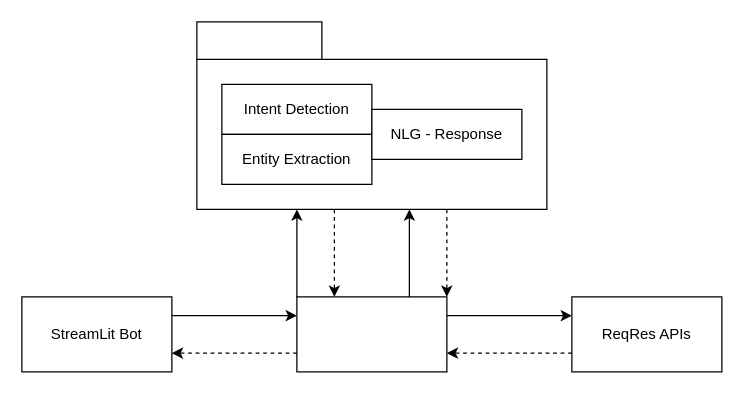
The diagram is 744 pixels wide and 394 high, and some of its shapes have lost their labels. The shapes that lost their labels are listed below. From the top down, each one's centre as x and y in pixels, then its label:
point (259, 40): LLM - OpenAI
point (371, 334): Talk2API
